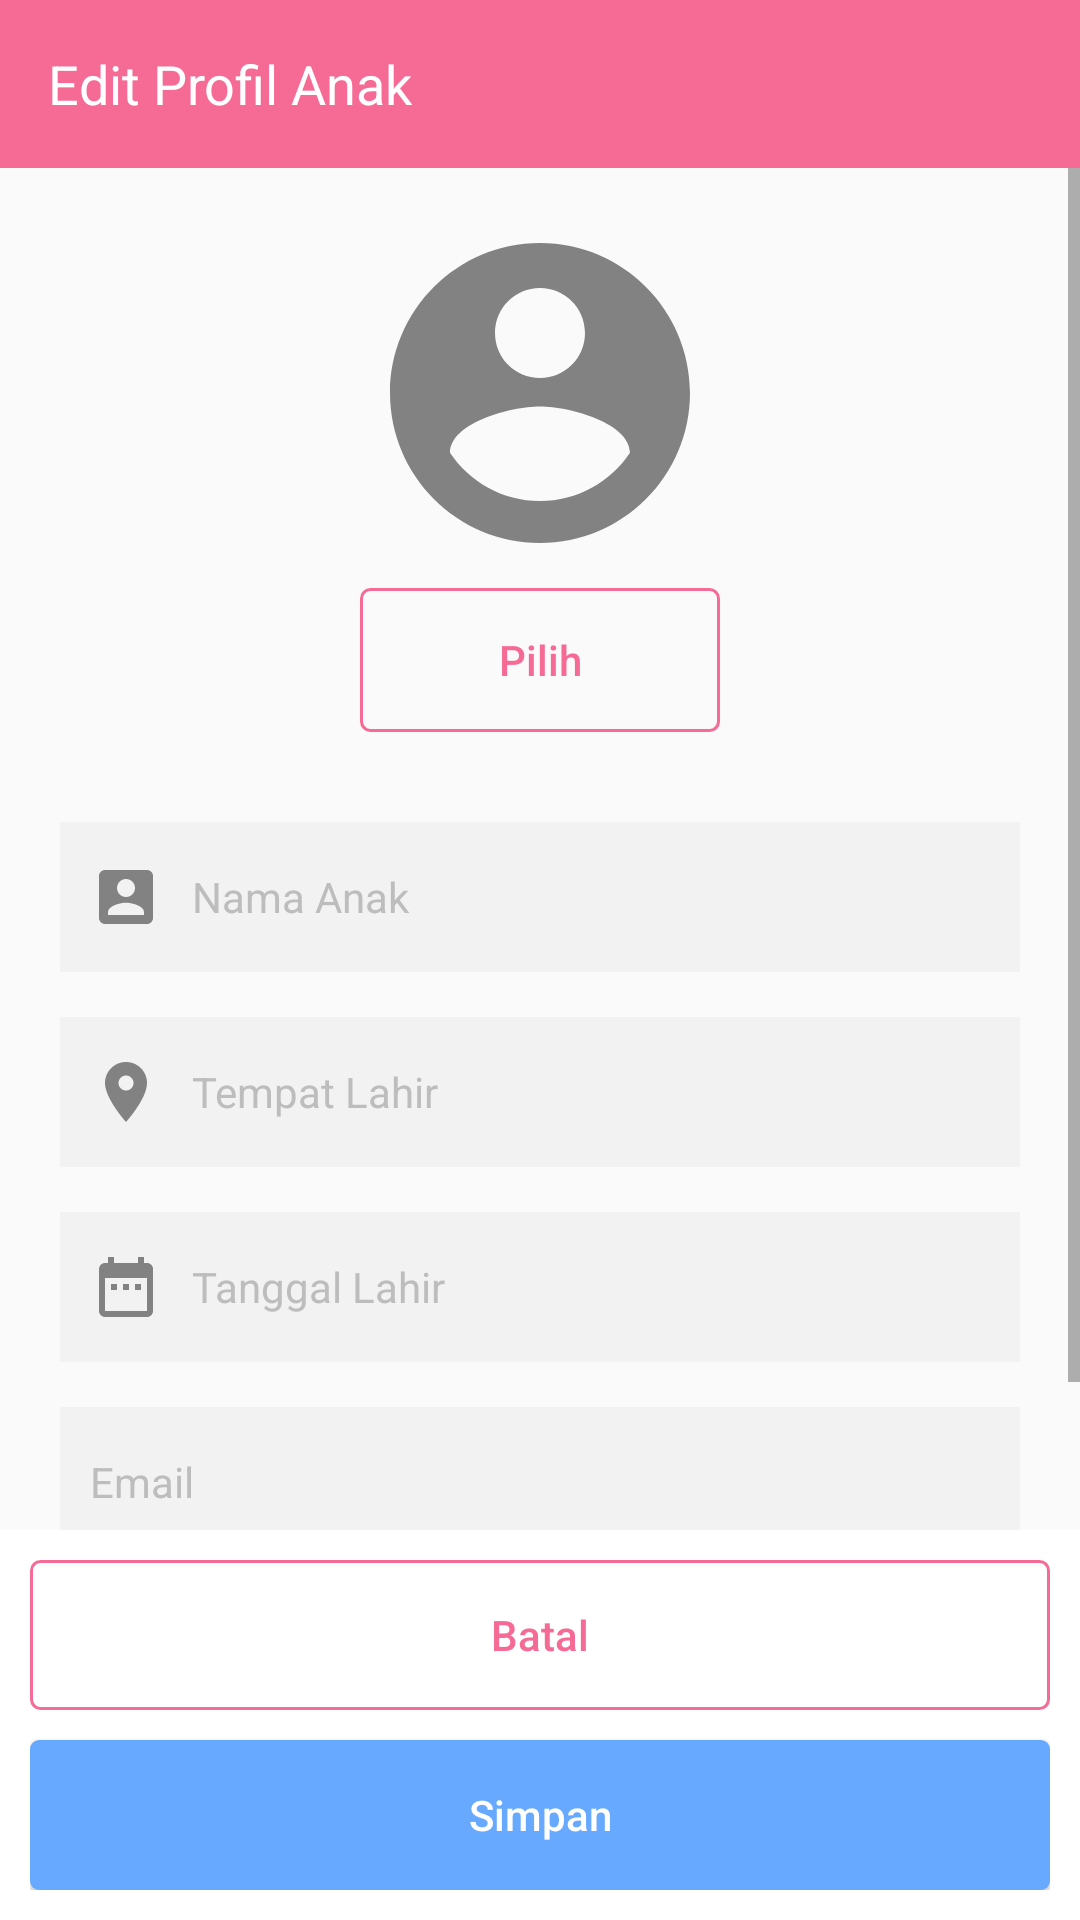

Screen size 1080 x 1920. Icon name, then its box in pixels as (x1, y1, x2, y2):
account circle: (390, 243, 690, 543)
